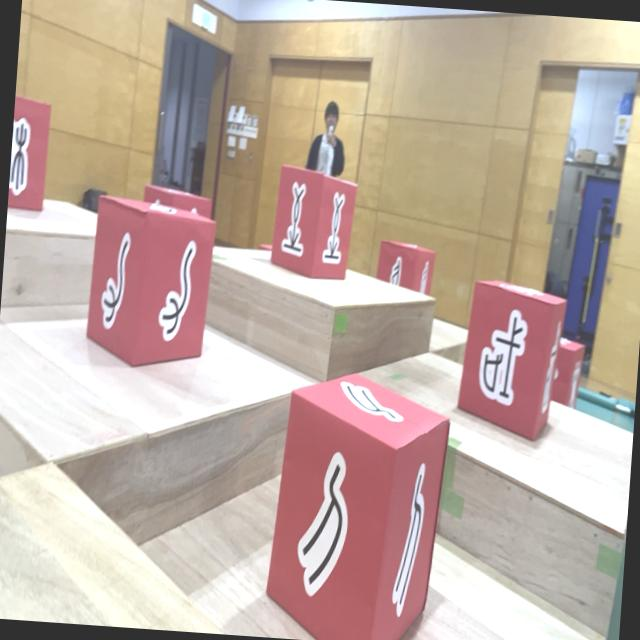10: (294, 448, 353, 598), (390, 460, 428, 620), (338, 380, 406, 423)
11: (389, 254, 402, 286), (419, 260, 429, 292)
13: (155, 238, 197, 344), (98, 228, 132, 330)
2: (8, 115, 32, 197)
5: (475, 306, 530, 409)
7: (280, 180, 308, 258), (321, 188, 346, 266)
fighter: (262, 365, 453, 640), (84, 194, 218, 373), (454, 276, 568, 442), (268, 164, 358, 282), (7, 94, 53, 212), (375, 238, 437, 296), (548, 336, 586, 410), (142, 184, 213, 218)
